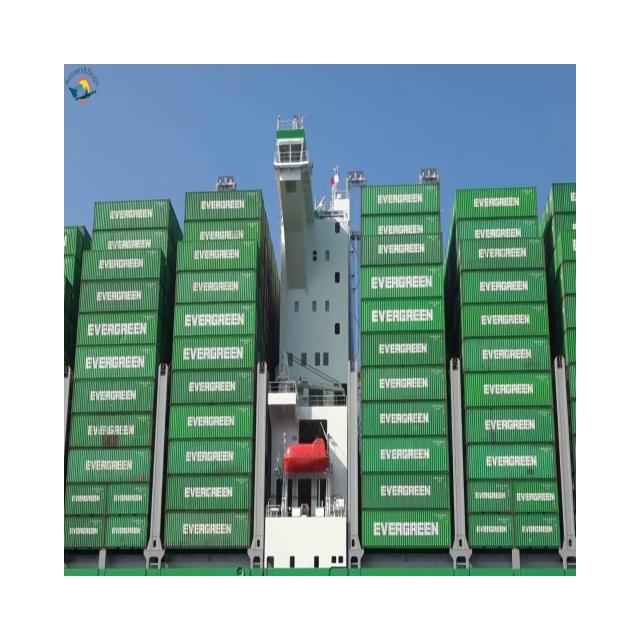OCR: (175, 303, 247, 339), (372, 516, 447, 541), (365, 307, 437, 328)
